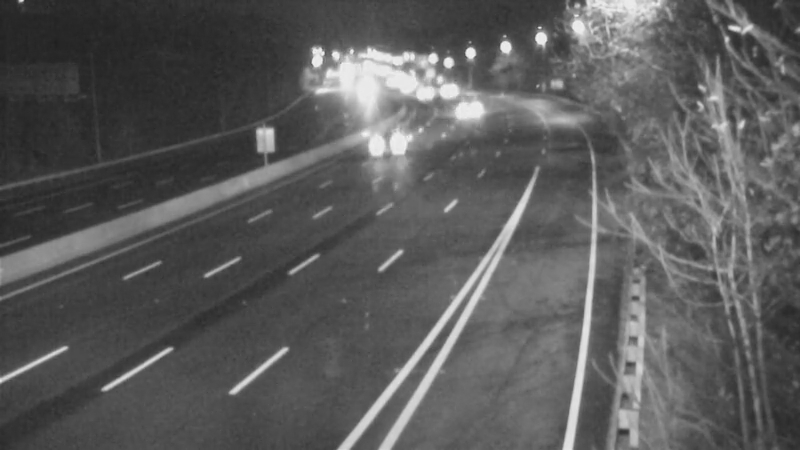vehicle: (419, 64, 469, 114), (398, 72, 448, 122), (443, 81, 493, 131), (368, 118, 418, 168), (338, 65, 388, 115)
